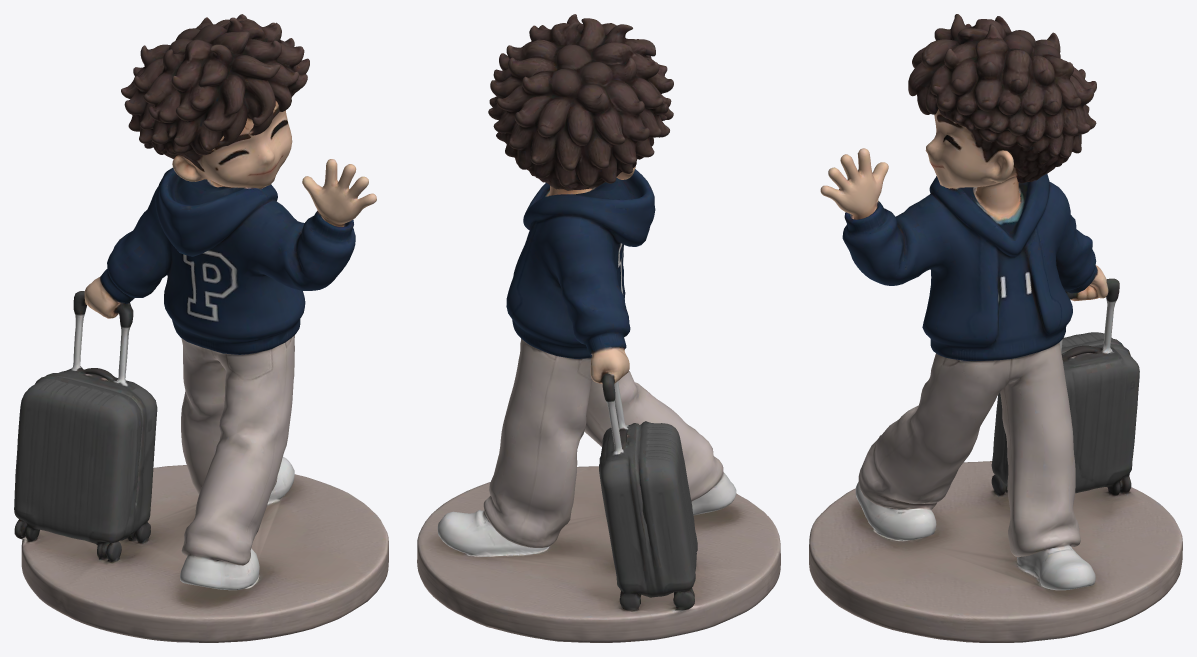
The model's file is farewell.glb.
3 views of the same model, side by side, from view 1: azimuth 30°, elevation 25°; view 2: azimuth 150°, elevation 25°; view 3: azimuth 270°, elevation 25° (orthographic). The views are drawn at different scales.
Visible parts, largest first — view 1: tripo_node_672bb2a4-3d3d-4eec-90f0-5ede6c0b9da0; view 2: tripo_node_672bb2a4-3d3d-4eec-90f0-5ede6c0b9da0; view 3: tripo_node_672bb2a4-3d3d-4eec-90f0-5ede6c0b9da0.
Boxes of the visible parts, x1,y1,x2,y2 form: tripo_node_672bb2a4-3d3d-4eec-90f0-5ede6c0b9da0: (14,14,388,642); tripo_node_672bb2a4-3d3d-4eec-90f0-5ede6c0b9da0: (417,14,780,642); tripo_node_672bb2a4-3d3d-4eec-90f0-5ede6c0b9da0: (809,14,1182,642).
Size of the model in its own units: 0.5988 by 0.9786 by 0.5995.
1 material, 1 textured.
